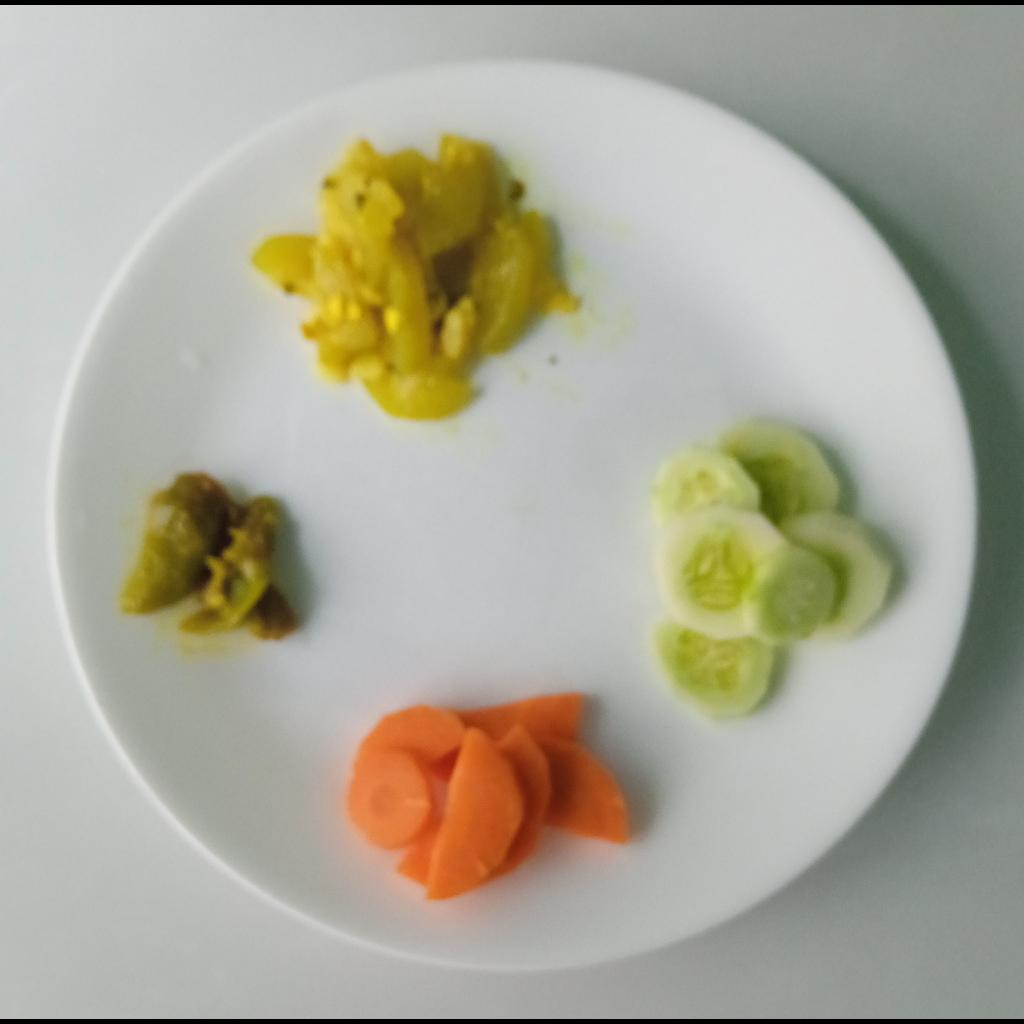carrot: (339, 696, 628, 897)
cucumber: (639, 424, 893, 717)
dundol: (118, 472, 291, 648)
lau: (251, 125, 588, 418)
